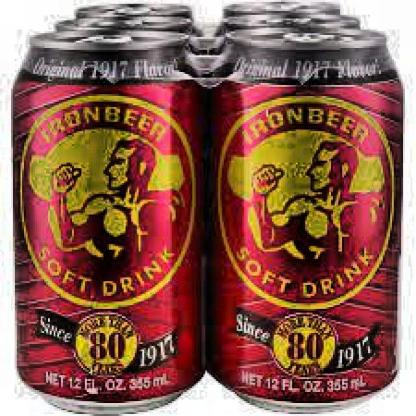Can: (206, 26, 408, 416), (8, 28, 206, 416)
